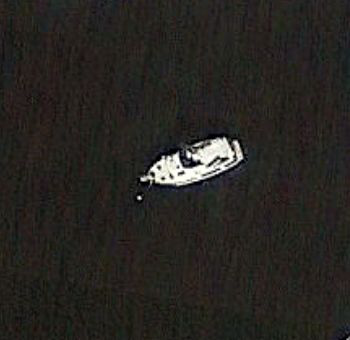boat: (139, 135, 245, 189)
